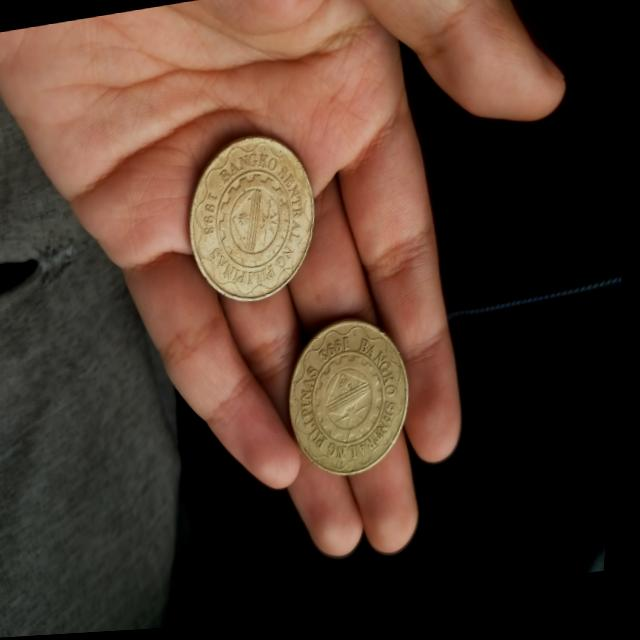5_Old_Back: (174, 126, 331, 316), (279, 313, 427, 491)
